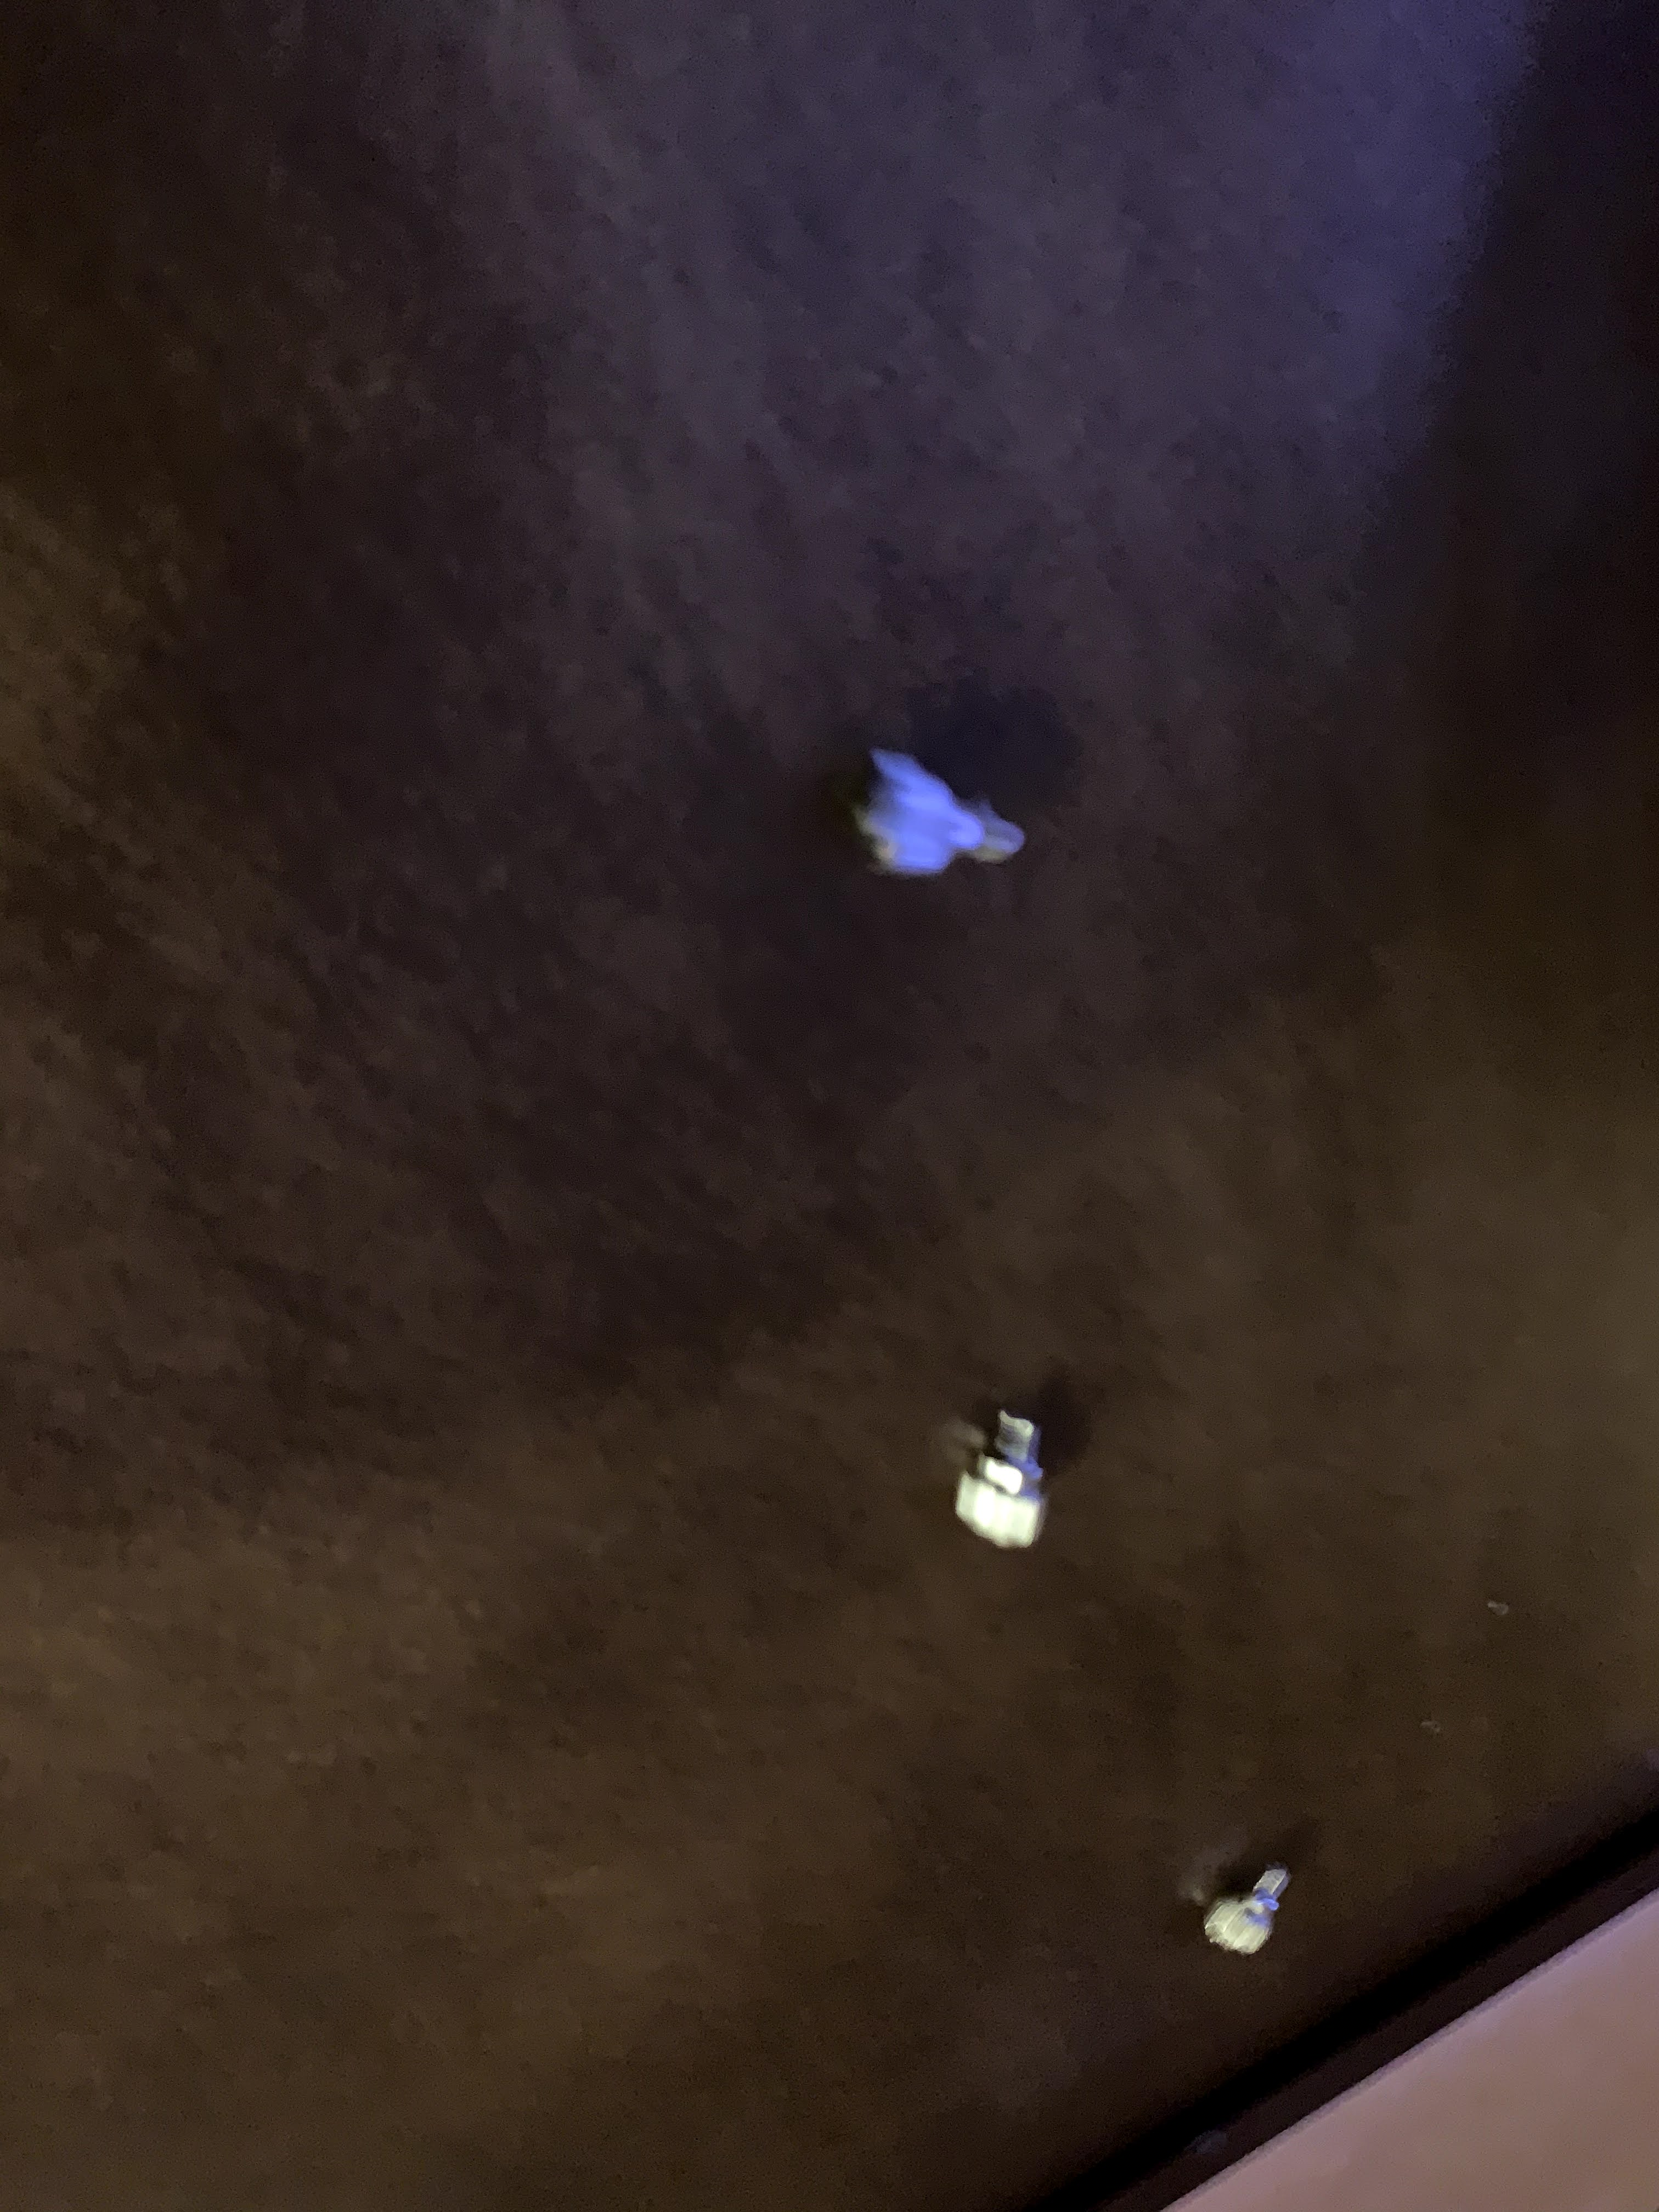Space-debris-small: (842, 742, 1033, 899), (938, 1392, 1061, 1561), (1201, 1841, 1295, 1966)
